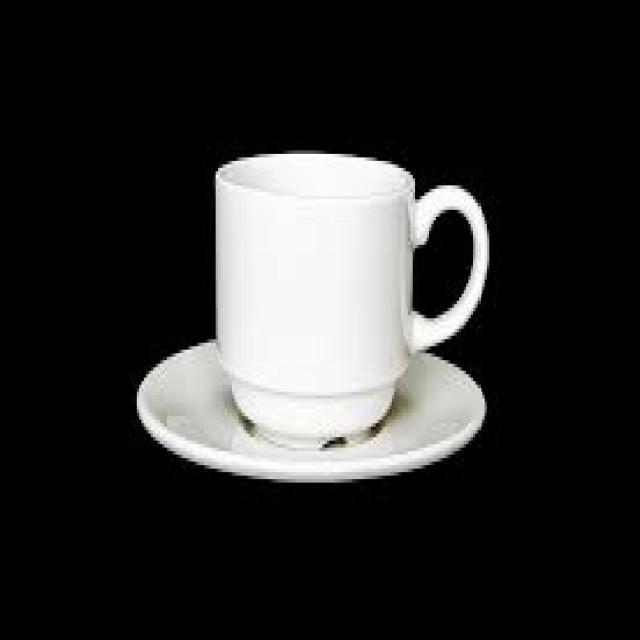taza: (183, 142, 497, 444)
